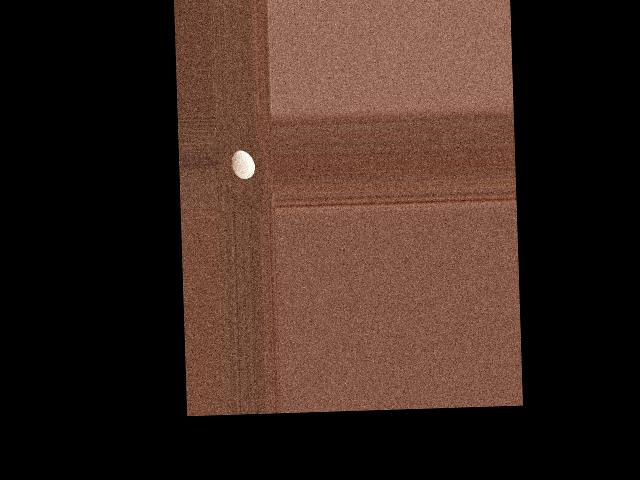egg: (231, 149, 254, 179)
